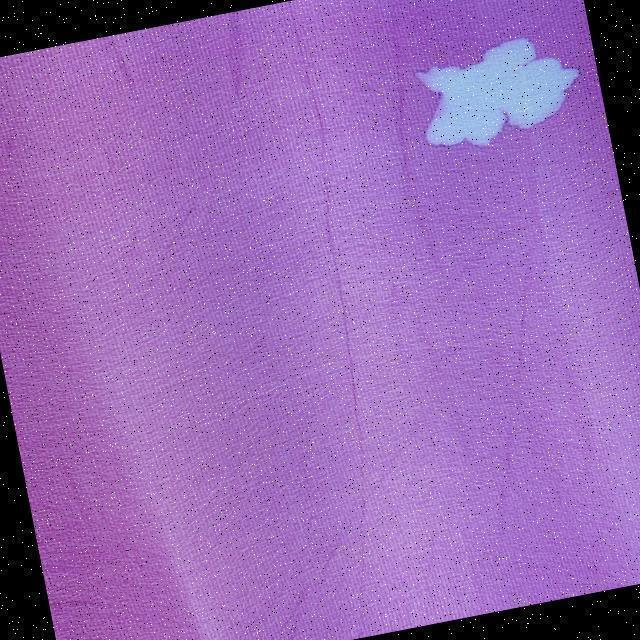pulled_or_thick_thread: (299, 66, 372, 639)
